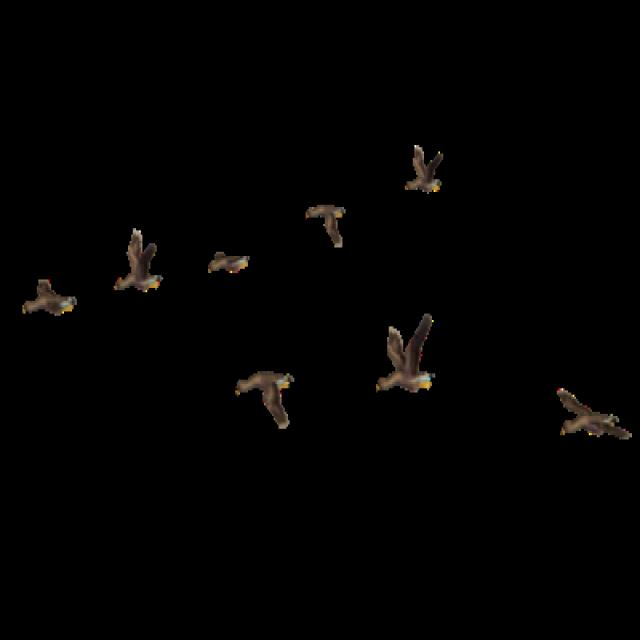birds: (370, 314, 446, 403), (552, 380, 636, 455), (235, 357, 297, 437), (109, 220, 169, 300), (20, 272, 80, 339), (397, 140, 450, 212), (300, 198, 350, 256), (206, 240, 252, 284)
